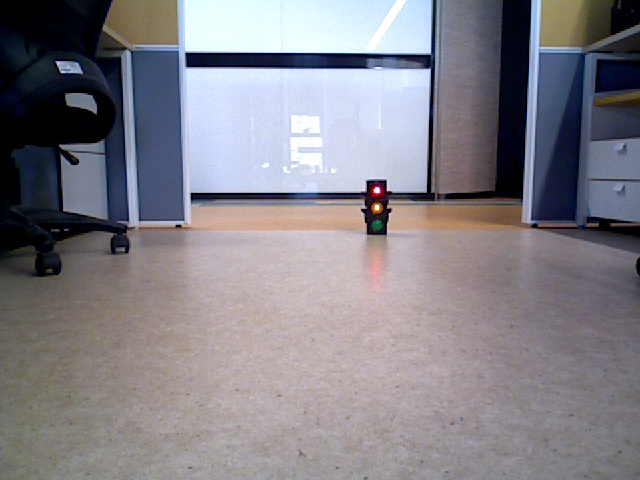red: (366, 182, 385, 231)
